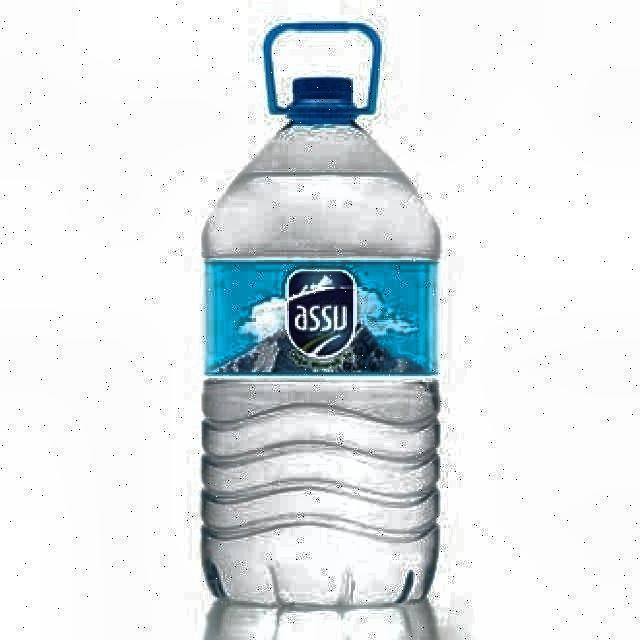plastic: (200, 17, 446, 640)
